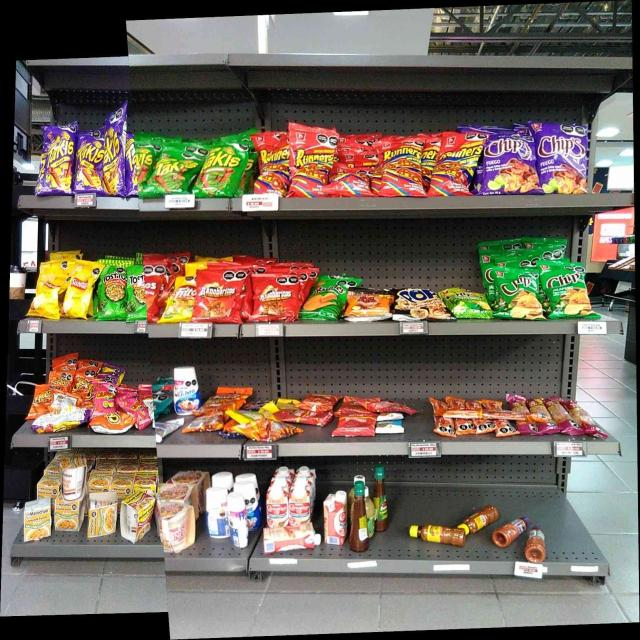bitzAlmendras: (376, 420, 403, 435)
bitzEnchilado90: (341, 413, 372, 435), (284, 412, 330, 424), (344, 396, 374, 411), (307, 393, 333, 410)
bitzEnchilado95: (430, 398, 508, 435)
bitzHabanero: (511, 395, 588, 436)
cheetosOriginal: (93, 413, 131, 432), (34, 386, 52, 413), (72, 376, 88, 397), (50, 372, 69, 385)
chipsFuego: (538, 124, 587, 192), (486, 139, 534, 193)
chipsJalapeno: (548, 269, 584, 317), (502, 270, 537, 317)
chipsPapatinas: (448, 290, 485, 316)
churrumais: (95, 384, 115, 412), (130, 402, 147, 426)
doritosNacho: (335, 167, 367, 194)
fritosLimon: (170, 282, 196, 319)
hotNutsOriginal: (351, 294, 388, 316)
leoMix: (204, 390, 240, 414)
maruchanPollo: (55, 498, 81, 533), (89, 502, 117, 534), (25, 508, 52, 540)
maruchanRes: (119, 492, 154, 541)
nestleCarnation: (261, 525, 320, 550), (323, 493, 349, 544), (289, 482, 312, 522), (266, 486, 288, 523)
nestleLechera: (173, 366, 199, 414), (227, 492, 249, 548), (206, 486, 227, 540)
popKarameladas: (398, 288, 446, 318)
productoAtras: (37, 414, 81, 430)
rancheritos: (198, 278, 236, 318), (258, 281, 292, 319)
rufflesQueso: (304, 282, 344, 319)
runners: (293, 132, 332, 194), (256, 137, 290, 192), (384, 144, 421, 194), (438, 136, 470, 193), (422, 142, 436, 180)
sabritasOriginal: (64, 274, 88, 315), (33, 280, 59, 316)
salsaBufalo: (351, 481, 370, 551), (410, 524, 464, 544), (373, 466, 389, 531), (464, 504, 498, 531)
tajinDulce: (526, 526, 545, 561), (500, 516, 526, 538)
takisFuego: (46, 128, 74, 194), (78, 137, 104, 193), (104, 127, 121, 191), (124, 137, 137, 191)
takisOriginal: (155, 156, 197, 194), (201, 147, 239, 189), (138, 147, 154, 190)
tostitos: (103, 272, 126, 316), (128, 271, 146, 318)
